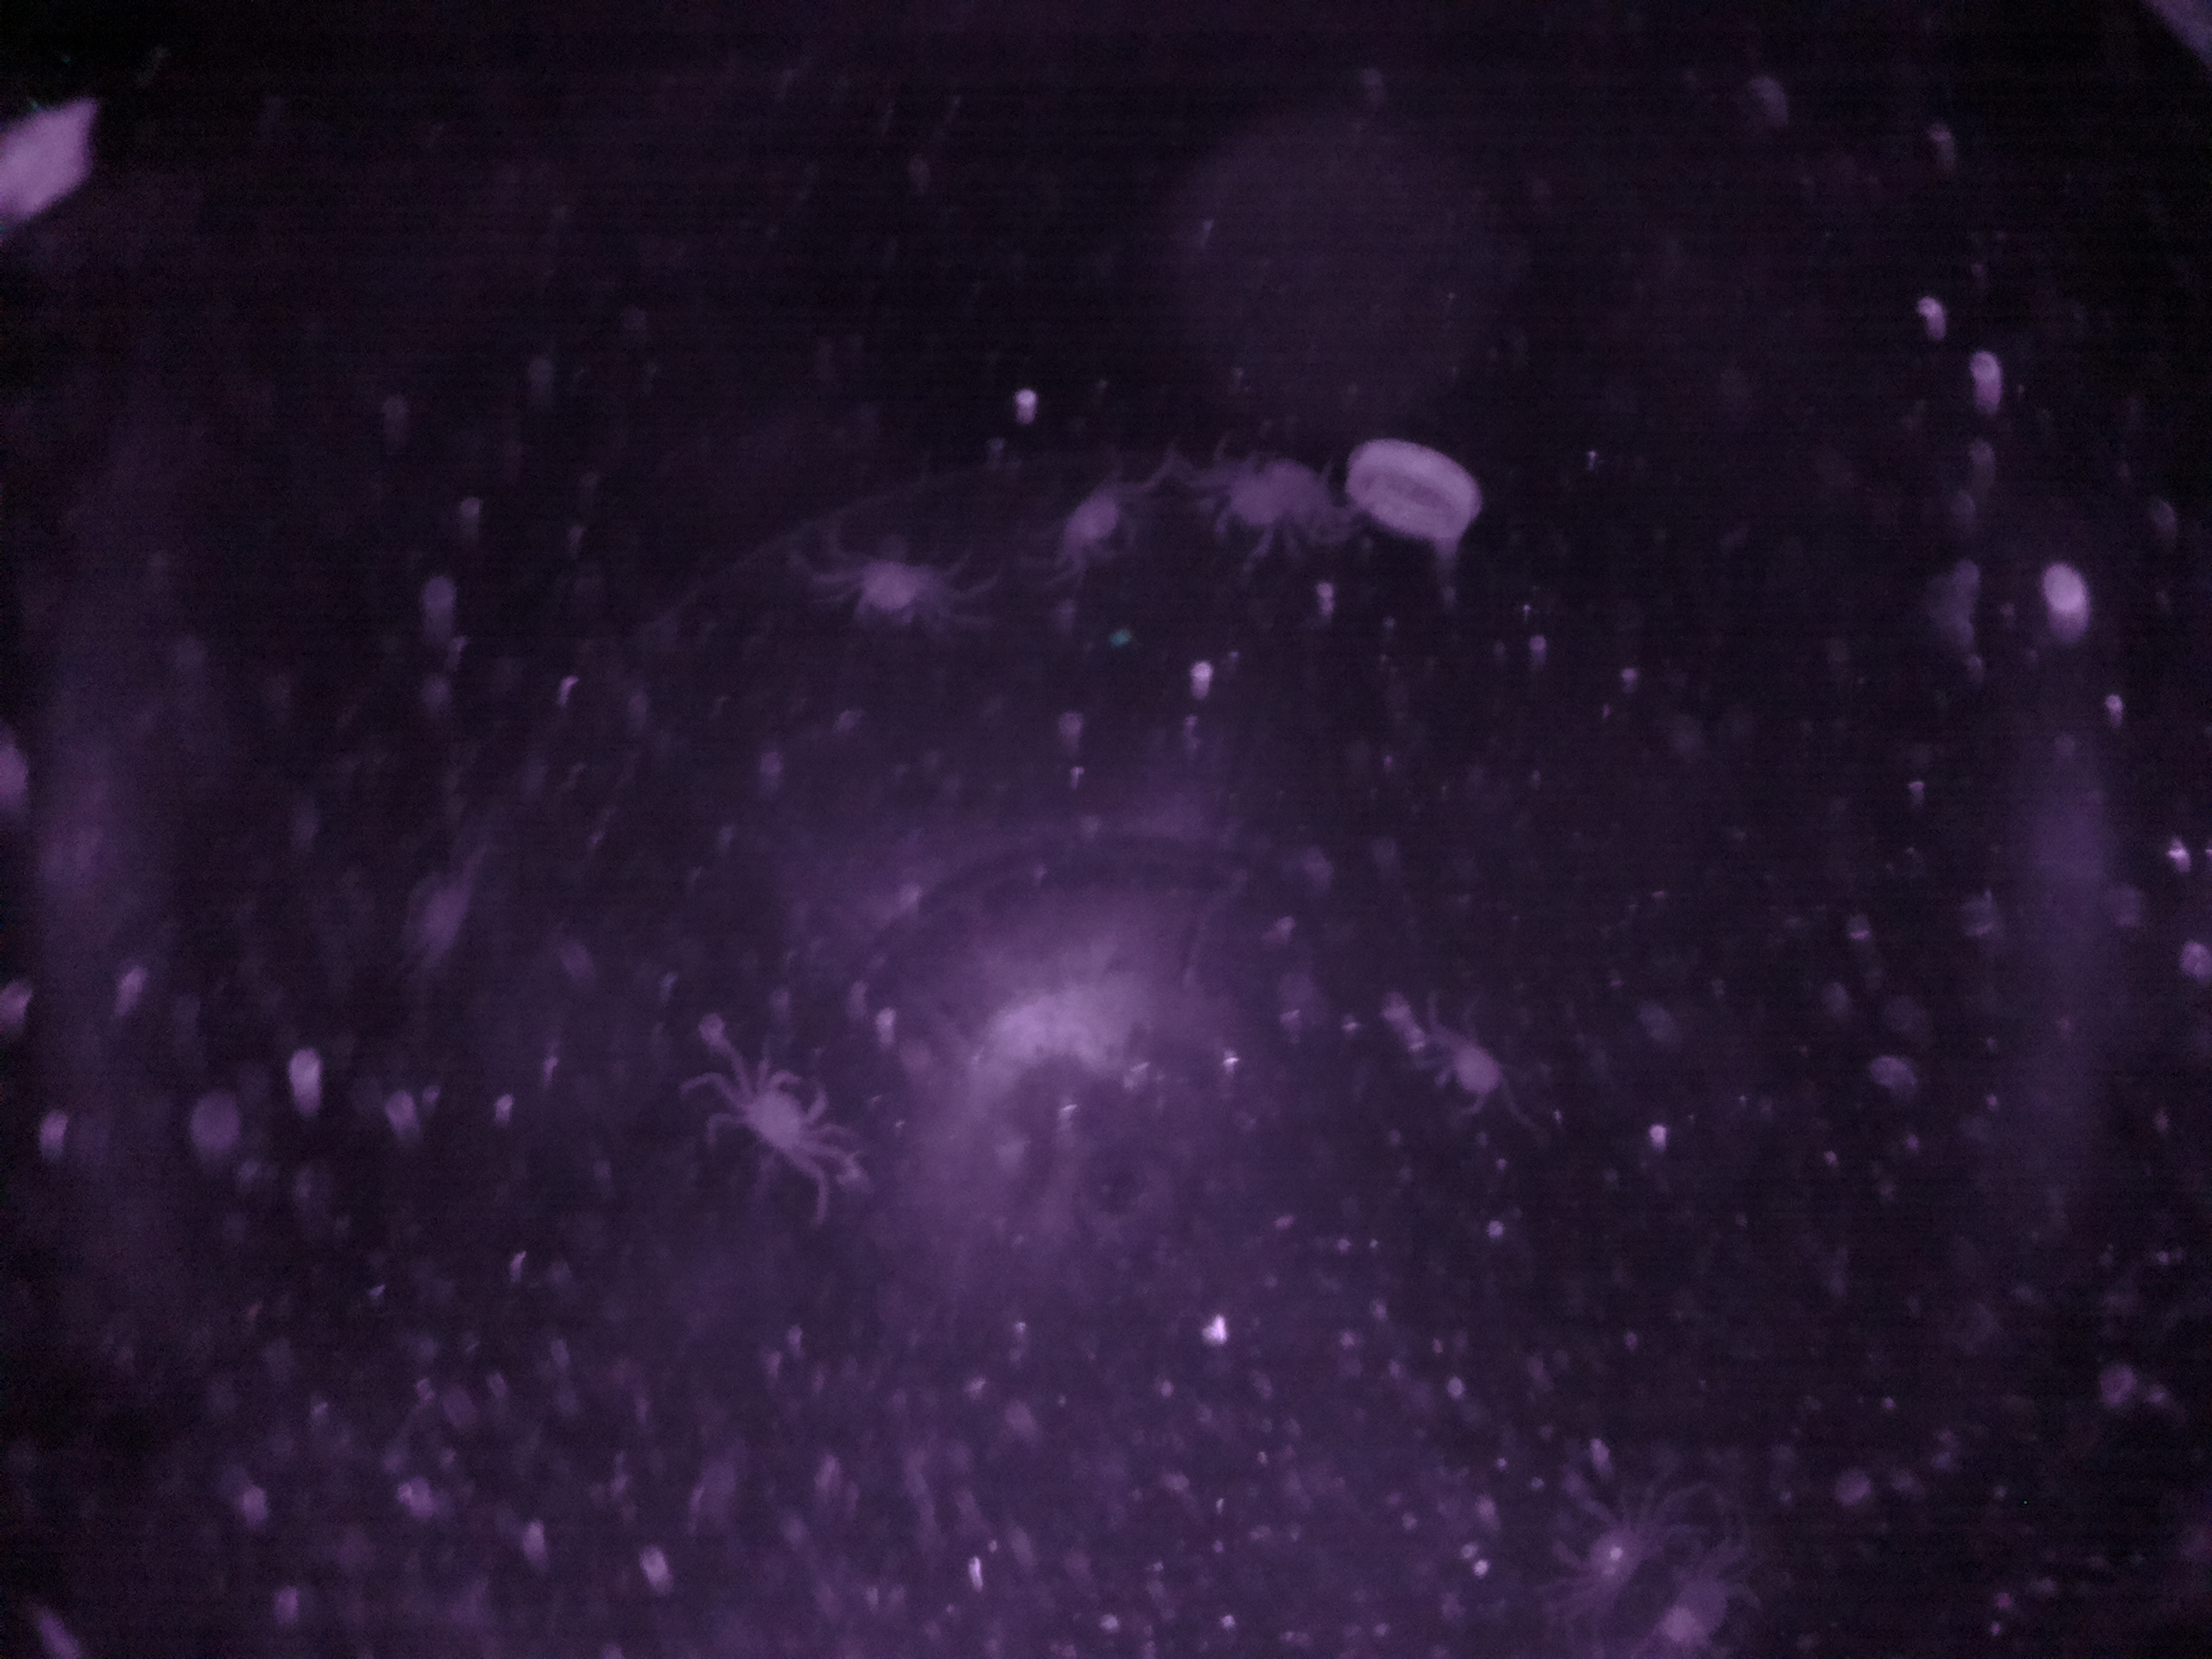Crab: (732, 1046, 833, 1176), (843, 533, 946, 641), (1055, 465, 1146, 570)
